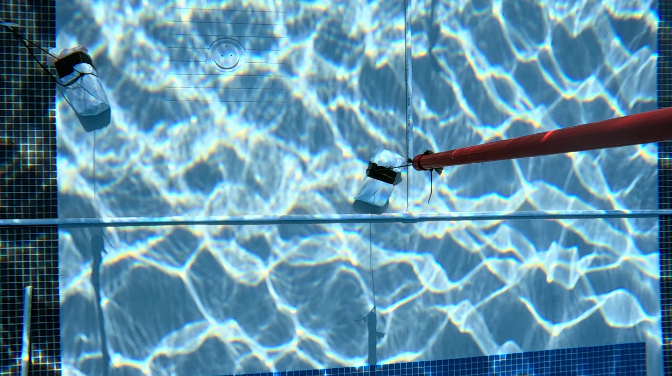sandbag: (48, 44, 105, 111), (356, 144, 402, 204)
